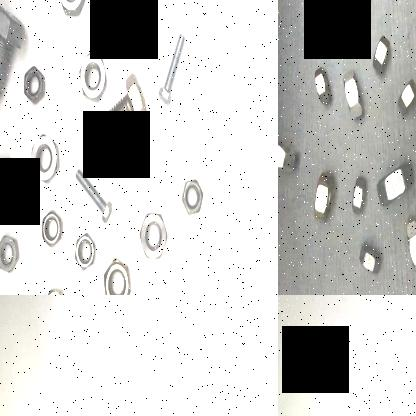Bolts: (90, 72, 148, 160), (74, 157, 112, 229), (158, 27, 190, 111), (0, 5, 24, 108), (116, 0, 153, 39)
NUTS: (27, 126, 65, 190), (138, 198, 172, 264), (377, 158, 415, 214), (176, 169, 214, 221), (79, 51, 111, 103), (310, 169, 336, 231), (0, 223, 27, 279), (342, 68, 368, 124), (0, 147, 22, 213), (101, 251, 133, 295), (39, 204, 65, 256), (20, 63, 48, 111), (72, 230, 96, 274), (393, 73, 416, 118), (370, 29, 391, 78), (354, 245, 385, 276), (350, 174, 370, 221), (313, 65, 334, 109), (401, 217, 416, 271), (278, 140, 299, 176), (54, 0, 88, 21), (40, 284, 68, 295)
